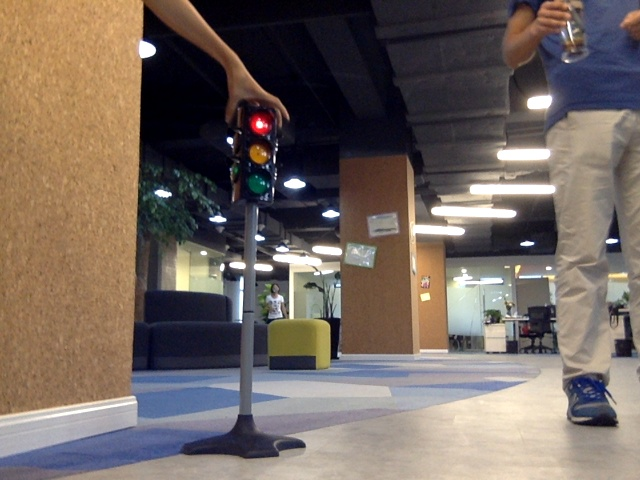red: (237, 110, 271, 195)
